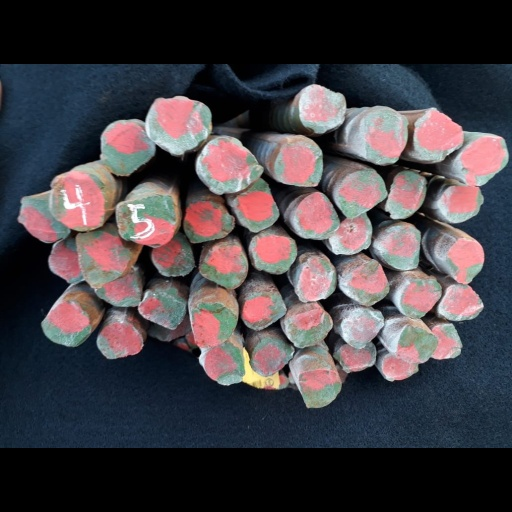dipstick: (145, 41, 208, 122), (198, 98, 263, 173), (73, 217, 133, 294), (49, 144, 104, 223), (116, 174, 177, 245), (100, 75, 154, 148), (336, 139, 388, 206), (415, 58, 463, 129), (273, 96, 323, 163), (299, 25, 346, 94), (19, 178, 71, 240), (198, 238, 249, 299), (232, 158, 279, 224), (365, 60, 408, 132), (42, 317, 90, 381), (462, 96, 508, 162), (293, 169, 339, 234), (183, 183, 235, 236), (191, 317, 236, 376), (200, 372, 245, 430), (248, 227, 297, 280), (345, 263, 389, 322), (380, 212, 421, 274), (386, 142, 426, 205), (96, 270, 141, 325), (286, 325, 332, 378), (153, 225, 195, 283), (96, 344, 144, 394), (445, 231, 484, 292), (298, 406, 342, 459), (438, 162, 483, 213), (298, 258, 336, 318), (140, 301, 184, 352), (400, 286, 442, 338), (332, 200, 372, 254), (342, 328, 384, 379), (397, 346, 437, 399), (440, 295, 483, 343), (244, 304, 286, 352), (48, 236, 80, 294), (251, 370, 292, 415), (336, 368, 376, 410), (427, 346, 462, 394), (382, 384, 419, 425)
